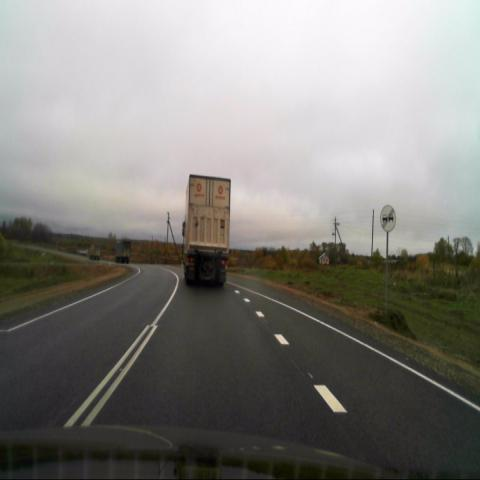3_21: (380, 204, 396, 233)
